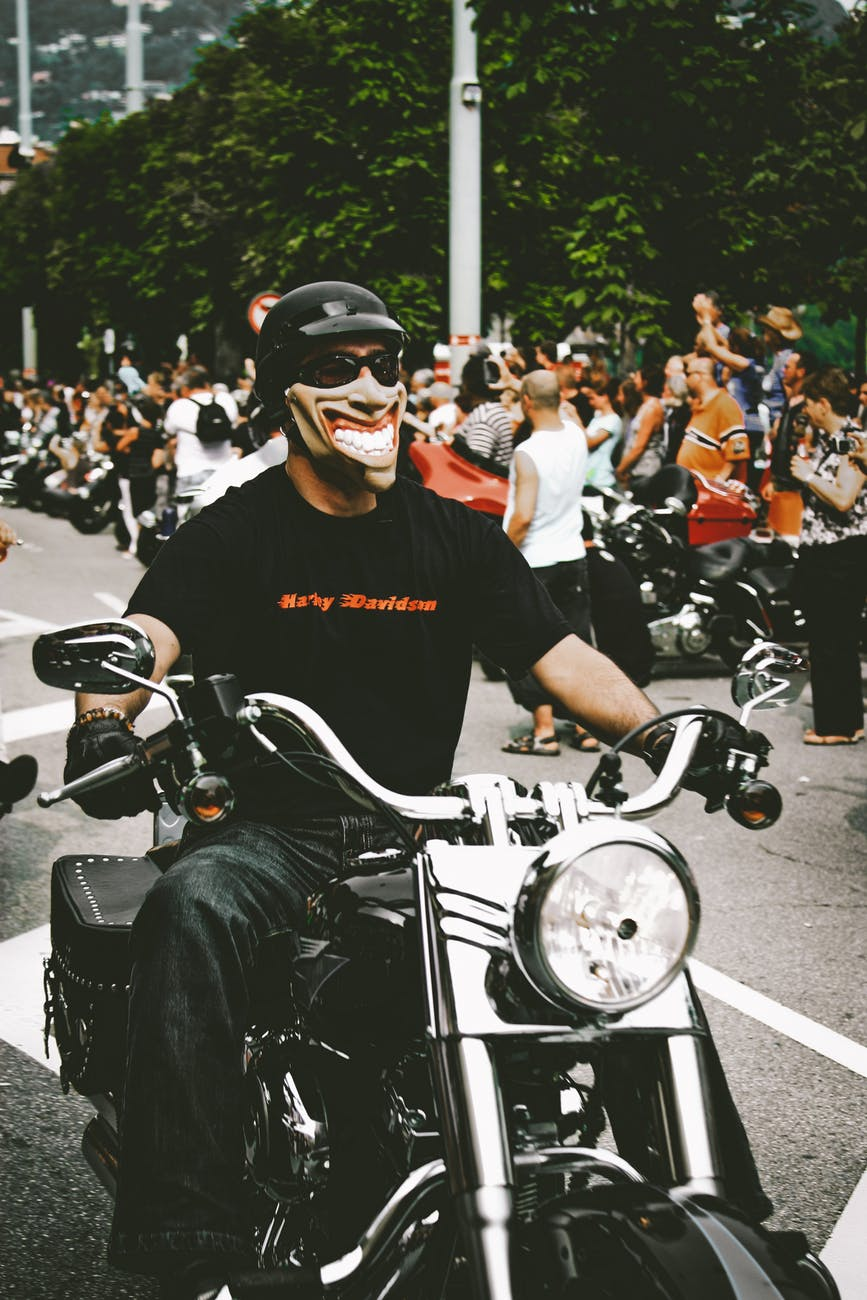helmet: (270, 285, 416, 465)
